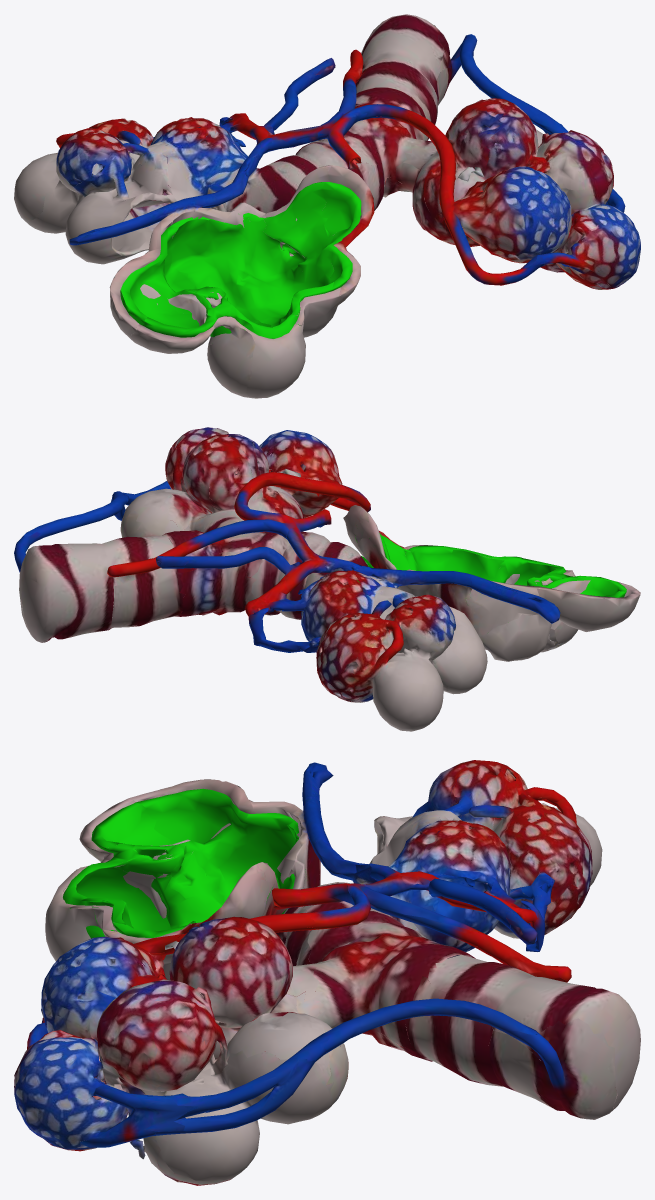
The model's file is Alveolo.fbx.
3 renders of one model, top to bottom at view 1: azimuth 30°, elevation 25°; view 2: azimuth 150°, elevation 25°; view 3: azimuth 270°, elevation 25°, orthographic. The views are drawn at different scales.
Parts seen in each view (by area): view 1: tripo_node_58d9bf65-b2b1-4e95-b3bf-4d0f7ffcbf0c, tripo_node_58d9bf65-b2b1-4e95-b3bf-4d0f7ffcbf0c.001; view 2: tripo_node_58d9bf65-b2b1-4e95-b3bf-4d0f7ffcbf0c, tripo_node_58d9bf65-b2b1-4e95-b3bf-4d0f7ffcbf0c.001; view 3: tripo_node_58d9bf65-b2b1-4e95-b3bf-4d0f7ffcbf0c, tripo_node_58d9bf65-b2b1-4e95-b3bf-4d0f7ffcbf0c.001.
Part boxes in pixels (x1,y1,x2,y2): tripo_node_58d9bf65-b2b1-4e95-b3bf-4d0f7ffcbf0c: [14, 14, 640, 398]; tripo_node_58d9bf65-b2b1-4e95-b3bf-4d0f7ffcbf0c.001: [120, 182, 361, 338]; tripo_node_58d9bf65-b2b1-4e95-b3bf-4d0f7ffcbf0c: [14, 427, 640, 731]; tripo_node_58d9bf65-b2b1-4e95-b3bf-4d0f7ffcbf0c.001: [355, 533, 626, 597]; tripo_node_58d9bf65-b2b1-4e95-b3bf-4d0f7ffcbf0c: [14, 760, 640, 1185]; tripo_node_58d9bf65-b2b1-4e95-b3bf-4d0f7ffcbf0c.001: [63, 788, 305, 938].
Size of the model in its own units: 400 by 141 by 334.
Materials: 2 (1 with a texture image).
